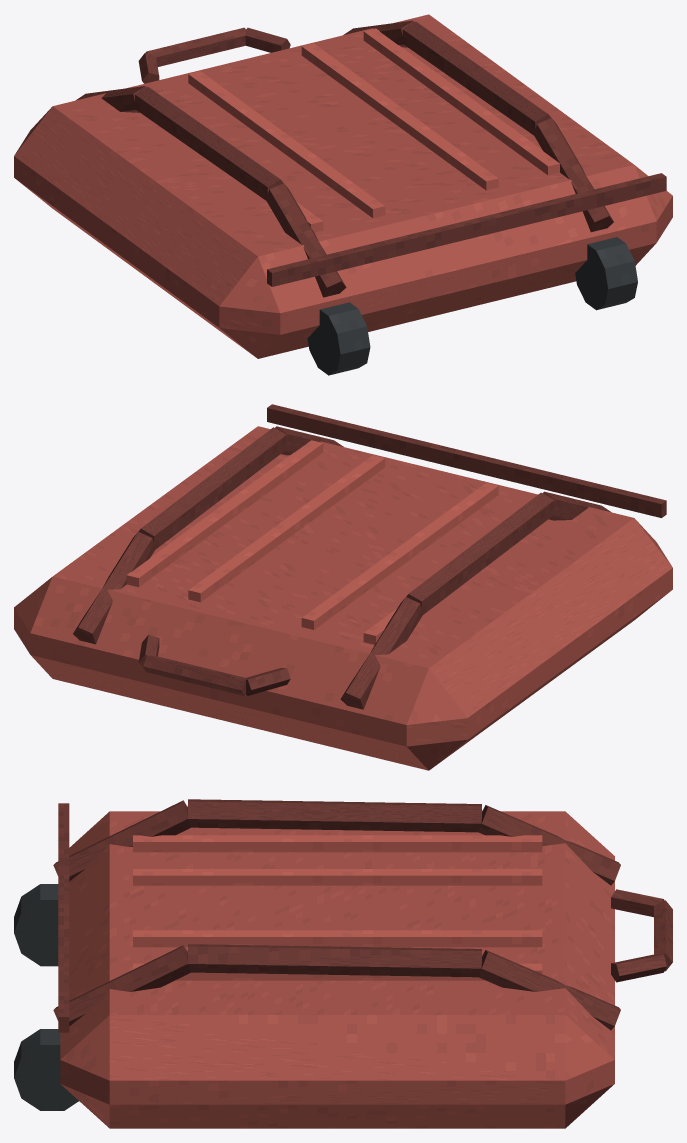
File: suitcase_l.glb
3 renders of one model, top to bottom at view 1: azimuth 30°, elevation 25°; view 2: azimuth 150°, elevation 25°; view 3: azimuth 270°, elevation 25°, orthographic. The views are drawn at different scales.
Visible parts, largest first — view 1: block_bag shell, block_molded hard-case rib (×3), block_webbing strap 1 (×2), block_zipper, block_luggage wheel (×2), block_webbing strap 2 (×2), block_carry handle 1, block_webbing strap 0 (×2), block_carry handle 2; view 2: block_bag shell, block_molded hard-case rib (×3), block_webbing strap 1 (×2), block_zipper, block_webbing strap 0 (×2), block_carry handle 1, block_webbing strap 2 (×2), block_carry handle 0; view 3: block_bag shell, block_molded hard-case rib (×4), block_webbing strap 1 (×2), block_luggage wheel (×2), block_webbing strap 0 (×2), block_webbing strap 2 (×2), block_zipper, block_carry handle 2, block_carry handle 1, block_carry handle 0.
Part boxes in pixels (<box>): block_bag shell: <box>14,14,672,358</box>; block_molded hard-case rib (×3): <box>188,28,559,218</box>; block_webbing strap 1 (×2): <box>135,21,551,201</box>; block_zipper: <box>267,173,666,286</box>; block_luggage wheel (×2): <box>307,237,637,375</box>; block_webbing strap 2 (×2): <box>267,118,613,297</box>; block_carry handle 1: <box>146,27,245,66</box>; block_webbing strap 0 (×2): <box>75,20,414,112</box>; block_carry handle 2: <box>245,27,290,52</box>; block_bag shell: <box>14,426,672,770</box>; block_molded hard-case rib (×3): <box>126,440,498,629</box>; block_webbing strap 1 (×2): <box>138,427,554,615</box>; block_zipper: <box>267,404,666,517</box>; block_webbing strap 0 (×2): <box>73,531,423,709</box>; block_carry handle 1: <box>143,655,245,695</box>; block_webbing strap 2 (×2): <box>275,426,611,520</box>; block_carry handle 0: <box>246,667,290,695</box>; block_bag shell: <box>60,811,614,1128</box>; block_molded hard-case rib (×4): <box>133,835,542,980</box>; block_webbing strap 1 (×2): <box>187,799,481,977</box>; block_luggage wheel (×2): <box>14,884,78,1110</box>; block_webbing strap 0 (×2): <box>478,805,620,1030</box>; block_webbing strap 2 (×2): <box>53,800,190,1026</box>; block_zipper: <box>58,803,69,1032</box>; block_carry handle 2: <box>611,954,666,982</box>; block_carry handle 1: <box>654,900,672,971</box>; block_carry handle 0: <box>611,889,664,917</box>.
Size of the model in its own units: 0.8588 by 0.2587 by 0.974.
Materials: 1 (1 with a texture image).
